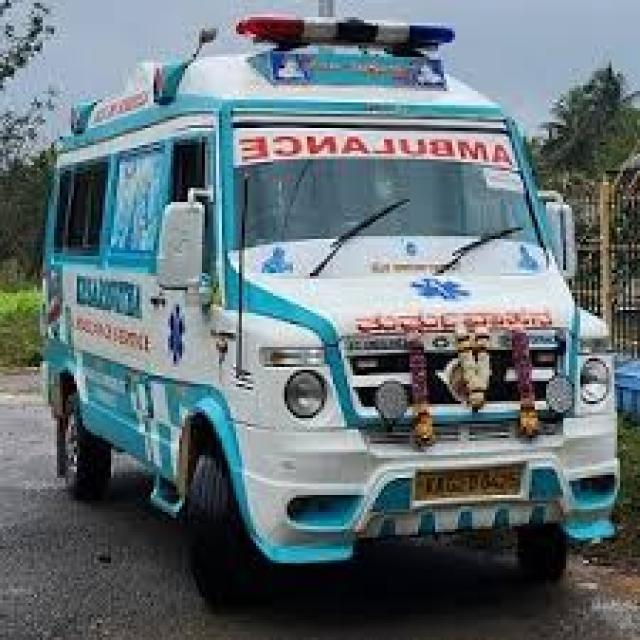ambulance: (182, 57, 614, 597)
